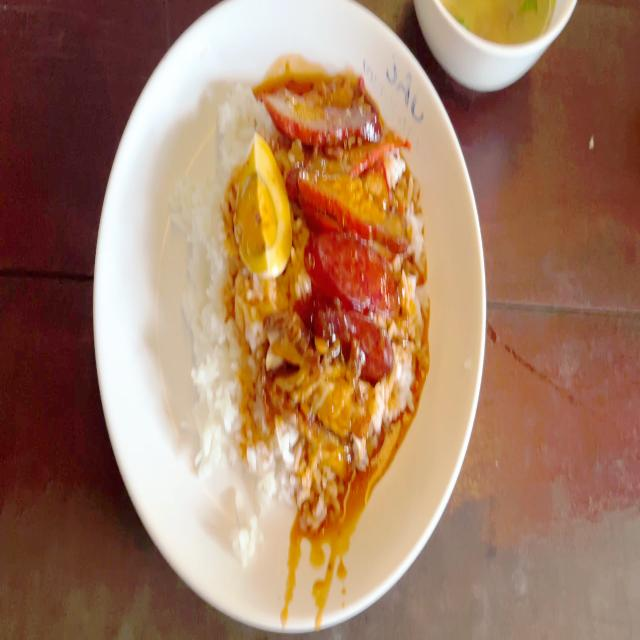boiled_egg: (245, 138, 283, 273)
chainese_sausage: (306, 242, 402, 336)
crispy_pork: (283, 351, 371, 418)
red_pork: (294, 104, 388, 236), (373, 149, 420, 239)
red_pork_and_crispy_pork: (183, 95, 405, 480)
rice: (188, 280, 265, 471), (196, 114, 236, 288), (216, 440, 282, 532)
